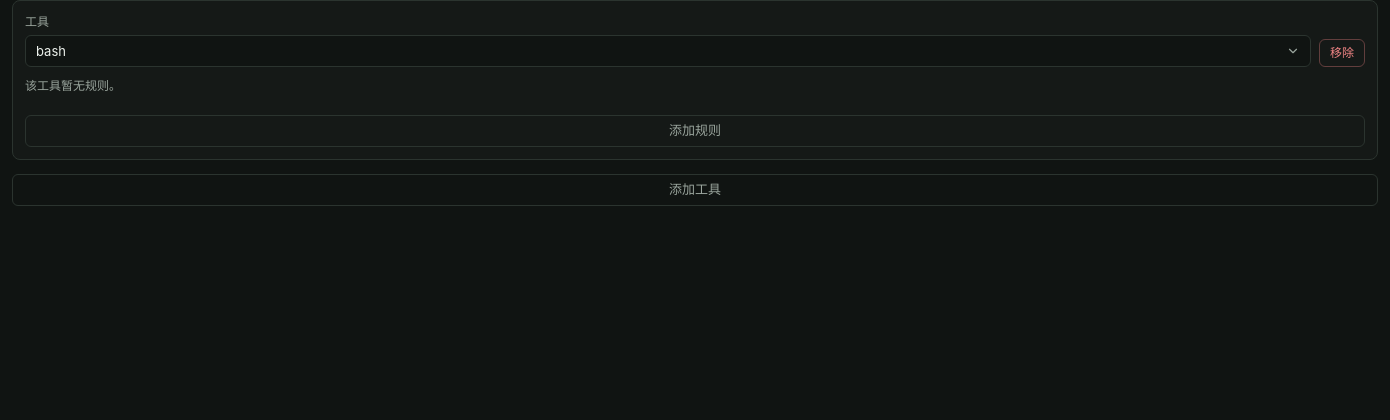
Scenario: PermissionEditor UI › adds a new empty tool group
expect the number of elements named "权限分组" is 1: met, box top-left (12, 0), bottom-right (1378, 160)
Click the button "添加工具".
click(695, 190)  # box top-left (12, 174), bottom-right (1378, 206)
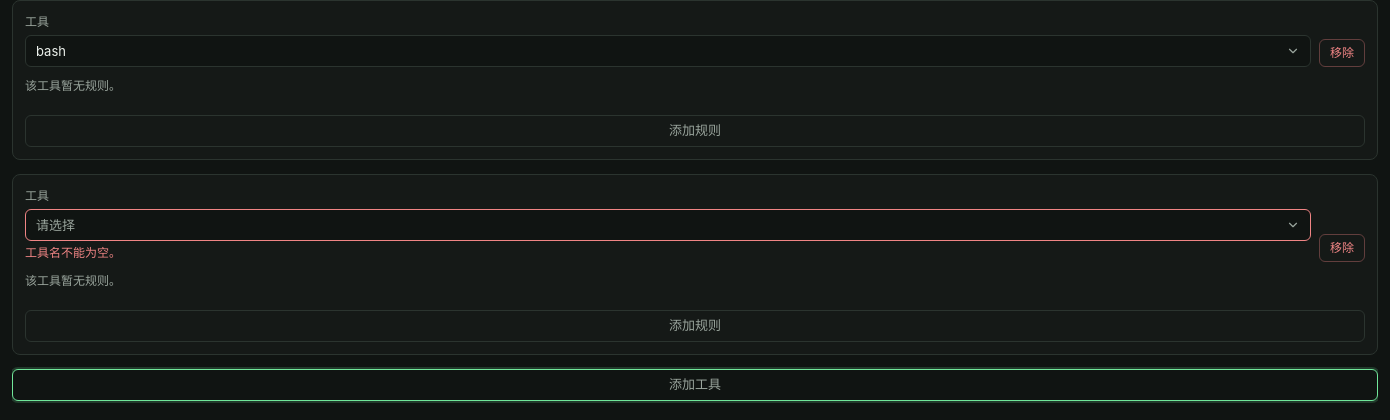
expect the number of elements named "权限分组" is 2: met, box top-left (12, 0), bottom-right (1378, 160); top-left (12, 174), bottom-right (1378, 355)
expect the text "该工具暂无规则。" below "工具名不能为空。" is shown: met, box top-left (25, 273), bottom-right (121, 288)
